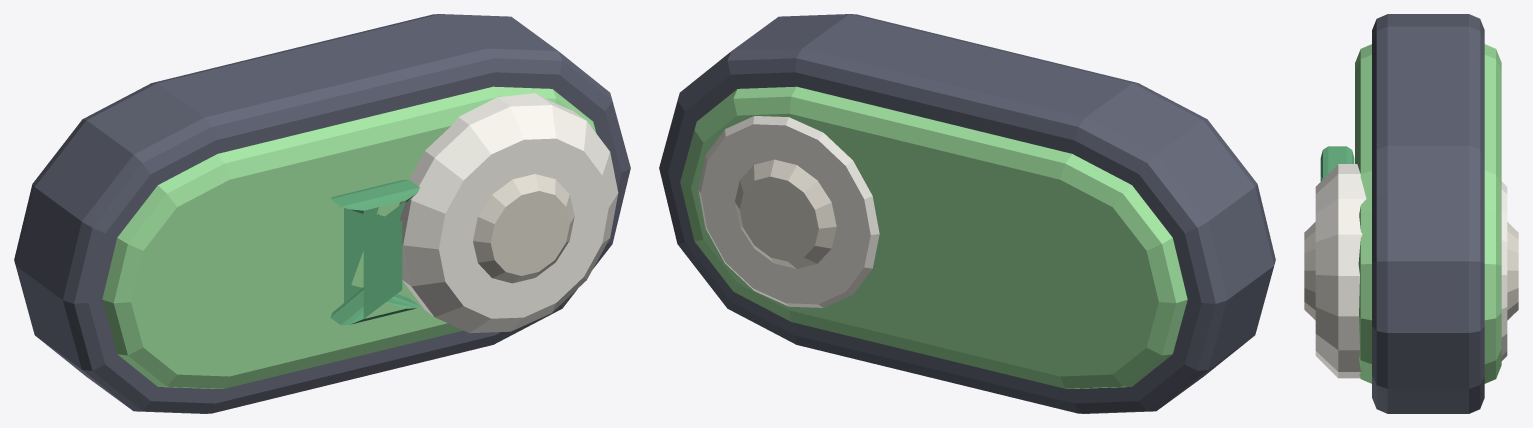
Rendered from game-ui-icon-library-toggle-knob-e0c01d5d__19049.glb.
3 renders of one model, left to right at view 1: azimuth 30°, elevation 25°; view 2: azimuth 150°, elevation 25°; view 3: azimuth 270°, elevation 25°, orthographic. The views are drawn at different scales.
Visible parts, largest first — view 1: toggle-knob; view 2: toggle-knob; view 3: toggle-knob.
Part boxes in pixels (bbox=[...]): toggle-knob: bbox=[14, 14, 630, 413]; toggle-knob: bbox=[659, 14, 1275, 413]; toggle-knob: bbox=[1304, 14, 1518, 413].
Size of the model in its own units: 0.98 by 0.4901 by 0.3724.
